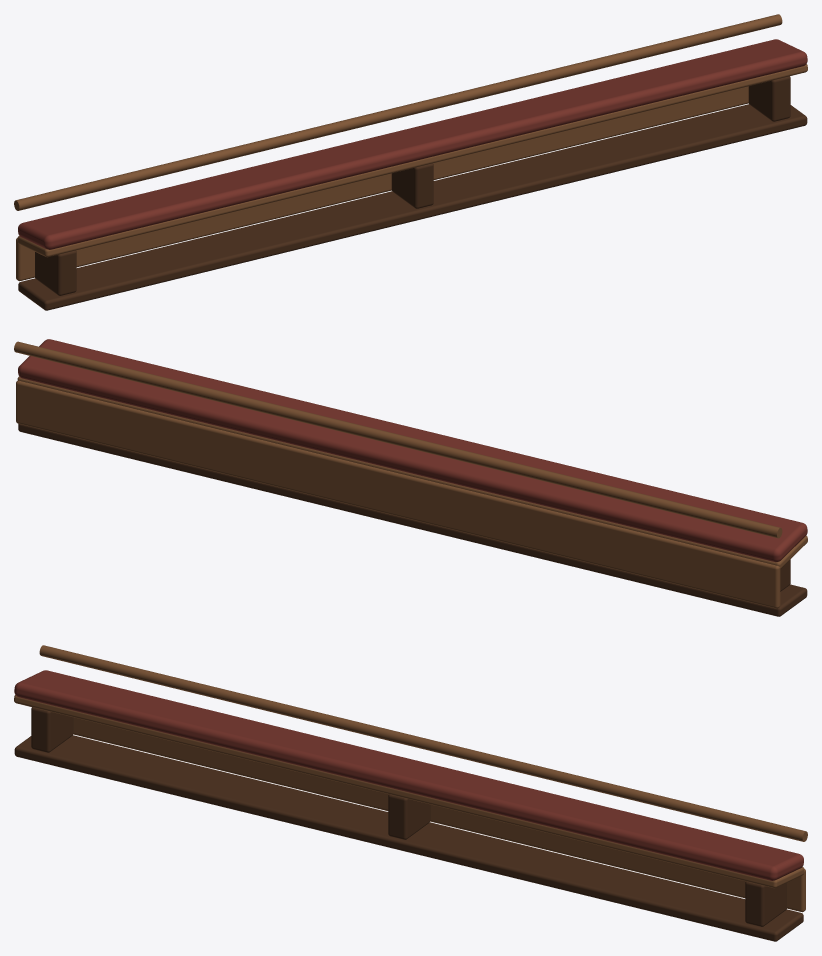
Rendered from kneeler.glb.
The picture shows the model from 3 angles, top to bottom: view 1: azimuth 30°, elevation 25°; view 2: azimuth 150°, elevation 25°; view 3: azimuth 330°, elevation 25°; orthographic projection.
Visible parts, largest first — view 1: Pad, Plinth, ShinBoard, Rail, Wedge, Leg (×3); view 2: ShinBoard, Pad, Rail, Plinth, Wedge; view 3: Pad, Plinth, ShinBoard, Rail, Wedge, Leg (×3).
Boxes of the visible parts, box(x1,y1,x2,y2) form: Pad: box(18, 39, 807, 249); Plinth: box(18, 104, 807, 310); ShinBoard: box(16, 86, 748, 281); Rail: box(14, 14, 782, 210); Wedge: box(17, 64, 807, 257); Leg (×3): box(35, 76, 790, 295); ShinBoard: box(16, 380, 780, 608); Pad: box(18, 339, 807, 562); Rail: box(14, 341, 782, 538); Plinth: box(18, 423, 807, 616); Wedge: box(17, 376, 807, 568); Pad: box(14, 670, 803, 880); Plinth: box(14, 735, 803, 941); ShinBoard: box(73, 717, 805, 912); Rail: box(39, 645, 807, 841); Wedge: box(14, 695, 804, 888); Leg (×3): box(31, 707, 786, 926).
Bounding box in the file's own units: 5.6 × 0.635 × 0.4194.
